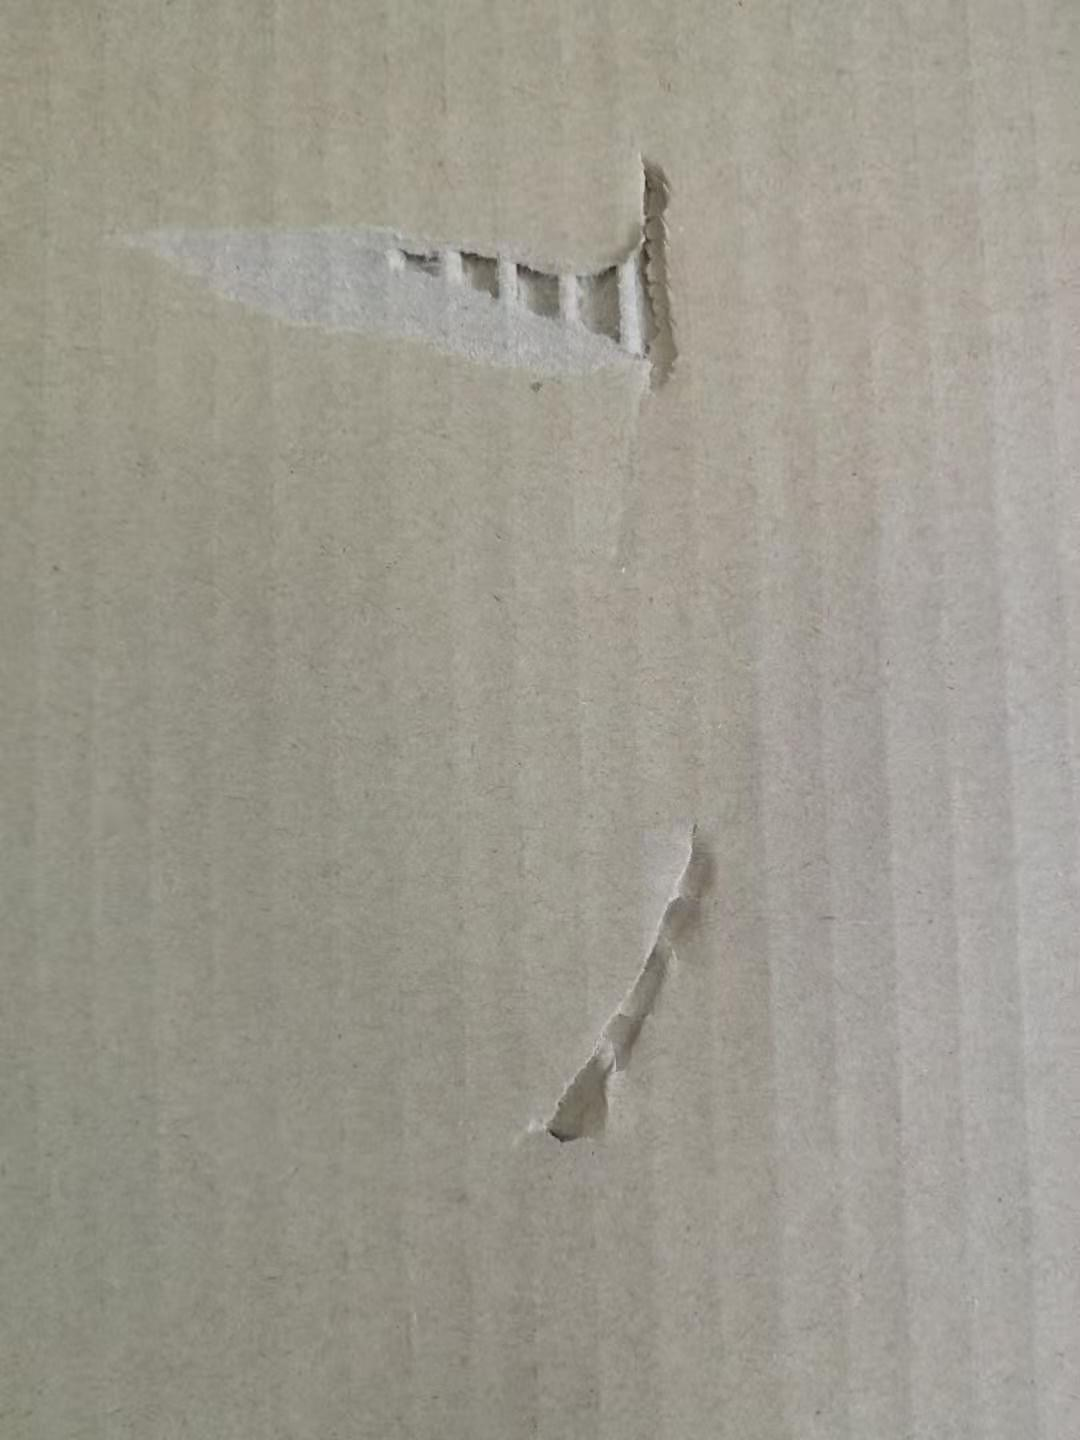defect: (98, 119, 739, 422), (486, 793, 769, 1179)
